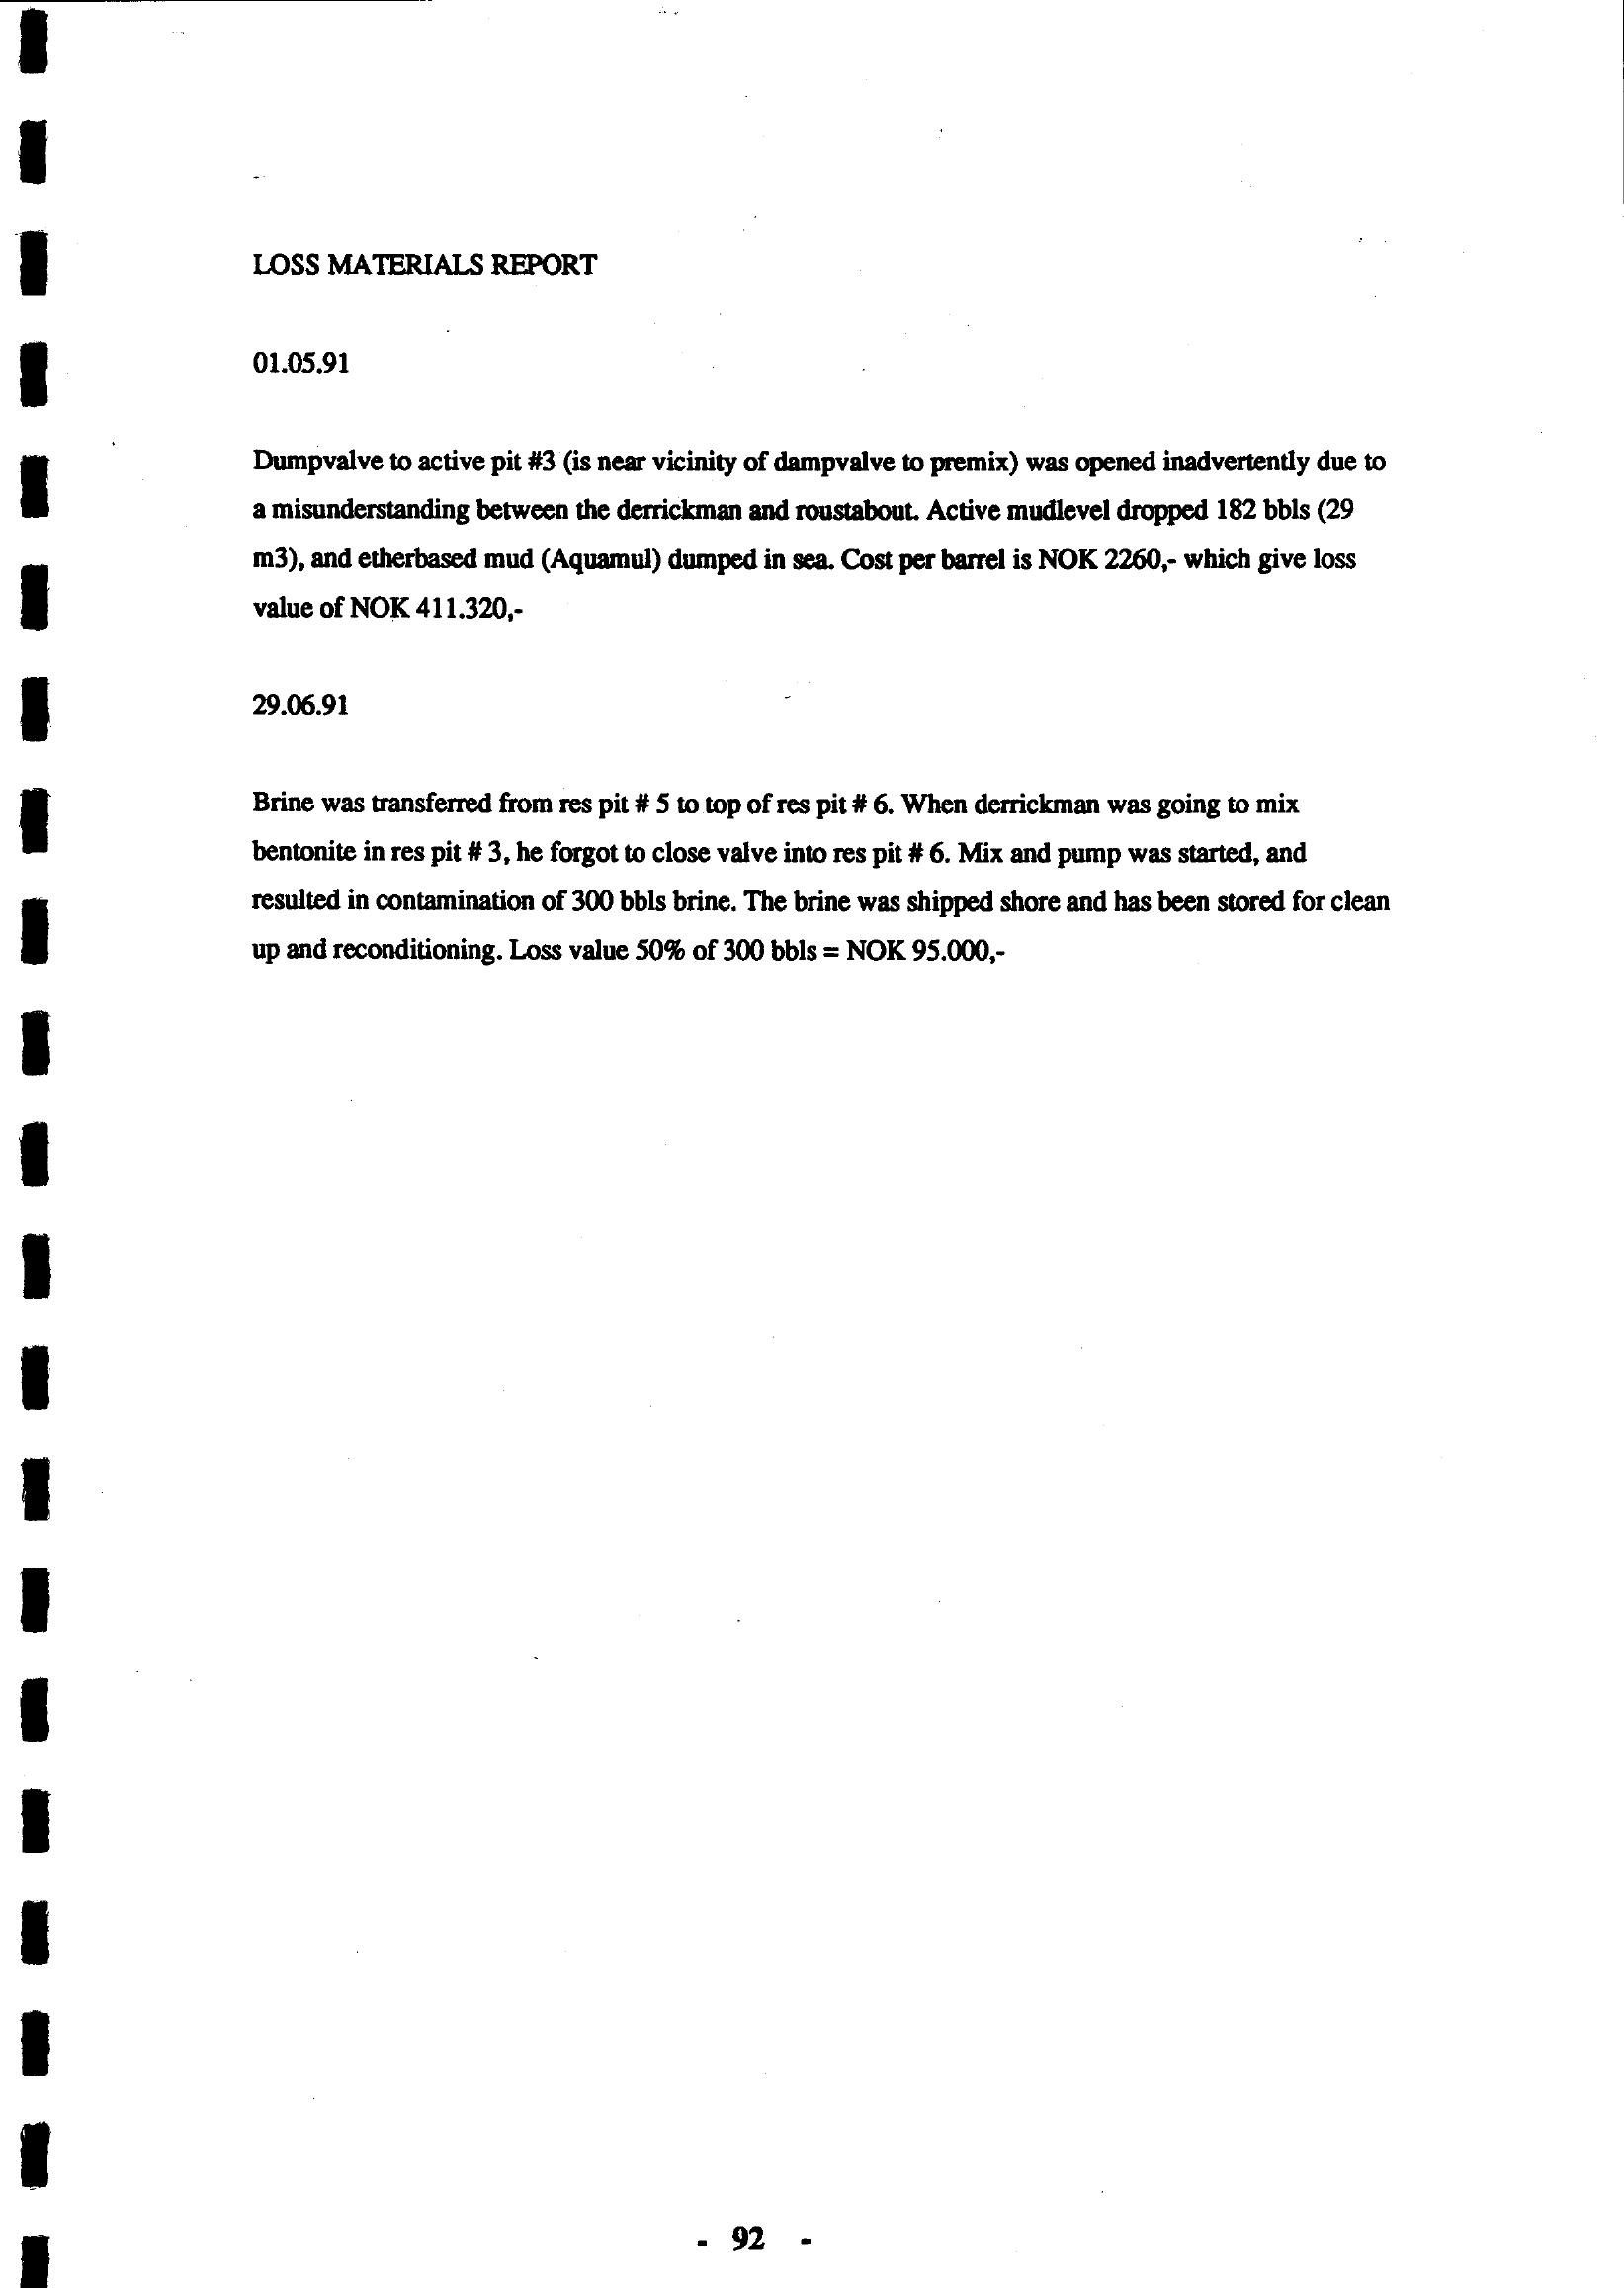text: (228, 195, 1476, 1019)
